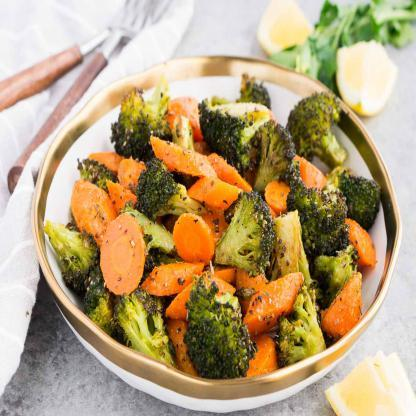broccoli: (41, 68, 380, 380)
